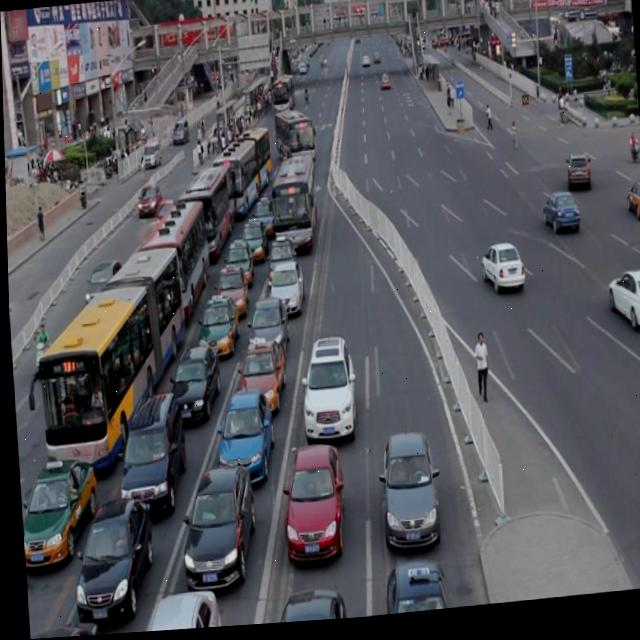car: (67, 495, 153, 615), (176, 460, 255, 586), (112, 387, 185, 508), (15, 454, 96, 563), (374, 432, 439, 547), (278, 445, 344, 556), (296, 335, 356, 440), (213, 386, 272, 478), (123, 584, 217, 634), (375, 561, 453, 620), (167, 339, 219, 420), (233, 336, 284, 412), (258, 589, 345, 627), (244, 296, 289, 361), (196, 293, 239, 355), (602, 273, 640, 340), (477, 245, 523, 297), (268, 258, 304, 313), (538, 194, 578, 243), (24, 613, 98, 639), (212, 261, 247, 314), (81, 264, 121, 304), (221, 237, 253, 285), (265, 232, 294, 282), (248, 193, 277, 234), (238, 215, 265, 258), (562, 157, 589, 197), (621, 181, 640, 228), (135, 184, 161, 217), (154, 200, 173, 227)
van: (18, 245, 190, 471), (133, 195, 211, 322), (211, 121, 272, 213), (268, 156, 318, 258), (181, 161, 231, 257), (272, 111, 316, 172)
